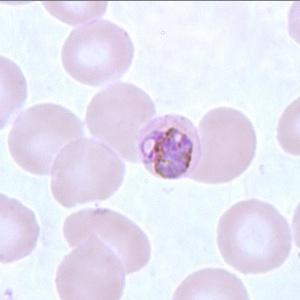Infected: (137, 114, 200, 180)
Uninfected: (64, 207, 153, 274), (218, 198, 294, 272), (8, 103, 83, 177), (86, 81, 154, 162), (61, 17, 134, 87), (50, 139, 124, 208), (193, 106, 257, 182), (57, 237, 126, 300)
